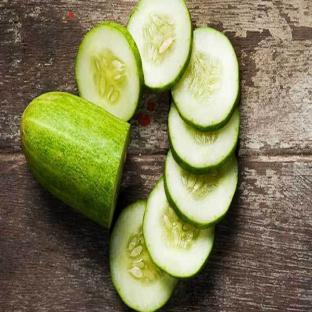Cucumber: (21, 93, 130, 227), (110, 201, 178, 311), (143, 178, 214, 278), (172, 28, 239, 131), (75, 22, 143, 120), (128, 0, 192, 91), (164, 152, 237, 227), (168, 105, 239, 173)
